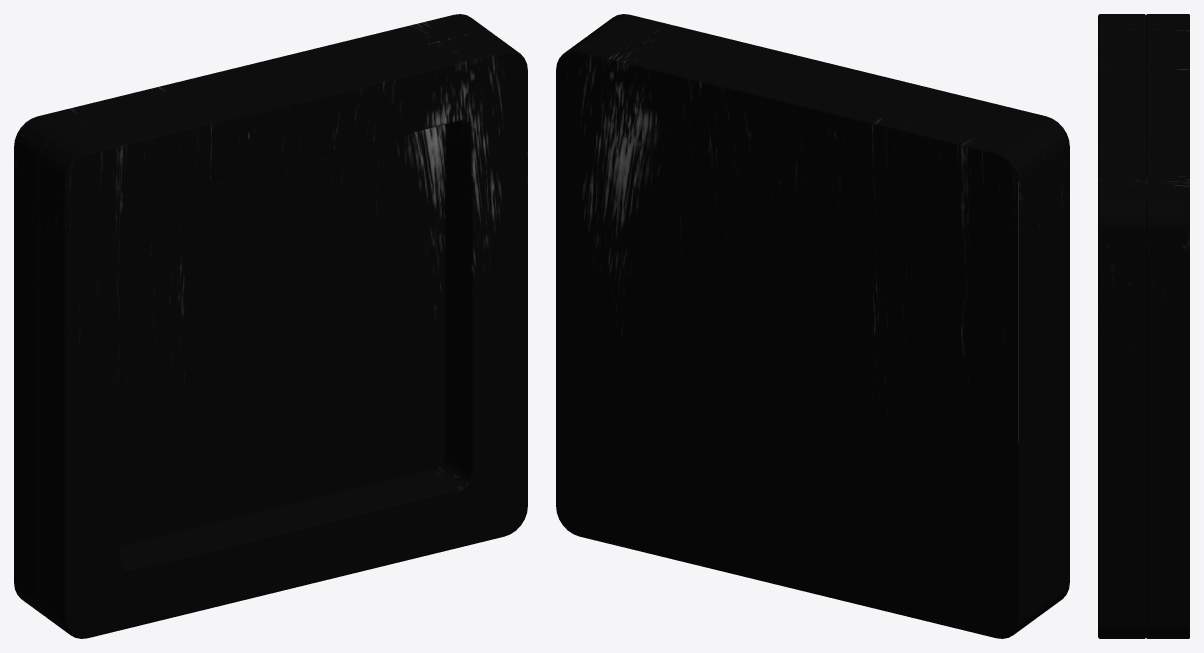
File: photo-frame-black.glb
3 renders of one model, left to right at view 1: azimuth 30°, elevation 25°; view 2: azimuth 150°, elevation 25°; view 3: azimuth 270°, elevation 25°, orthographic. The views are drawn at different scales.
Visible parts, largest first — view 1: Cube.001; view 2: Cube.001; view 3: Cube.001.
Part boxes in pixels (left/top/right/bottom): Cube.001: left=14, top=14, right=527, bottom=638; Cube.001: left=556, top=14, right=1069, bottom=638; Cube.001: left=1098, top=14, right=1189, bottom=638.
Size of the model in its own units: 0.1 by 0.1 by 0.019.
Materials: 1 (1 with a texture image).
